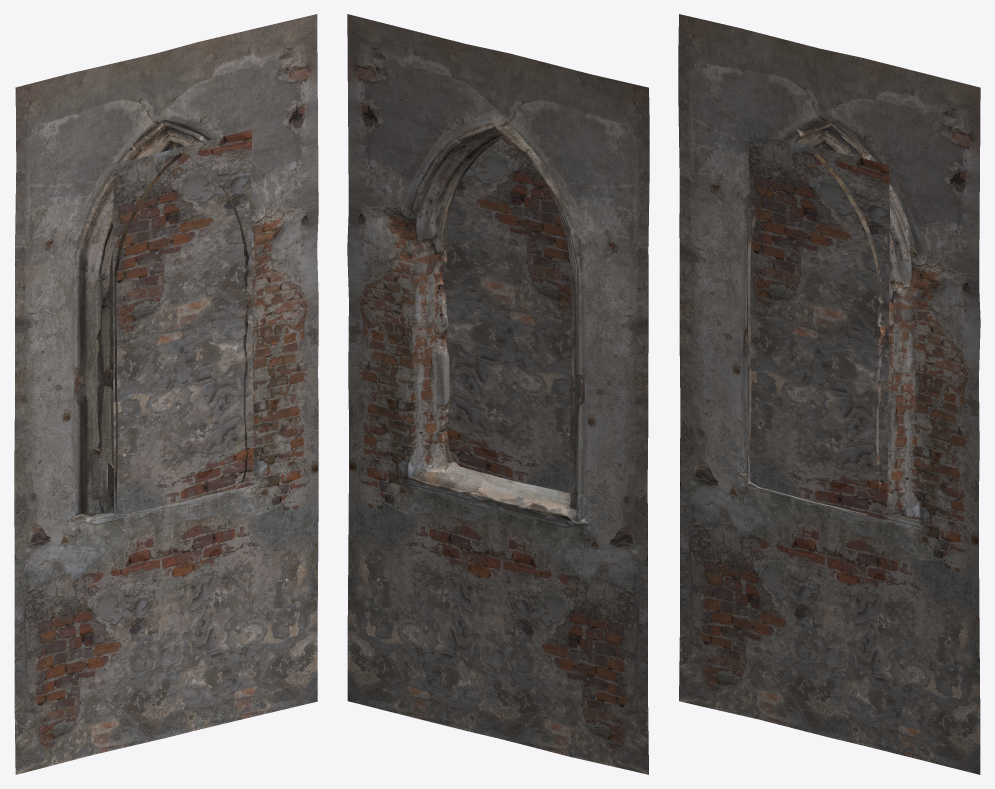
The model's file is SM_ChapelWall_01_06_OneSide.fbx.
The picture shows the model from 3 angles, left to right: view 1: azimuth 30°, elevation 25°; view 2: azimuth 150°, elevation 25°; view 3: azimuth 330°, elevation 25°; orthographic projection.
Parts seen in each view (by area): view 1: sm_ChapelWall_01_06_OneSide_LOD0; view 2: sm_ChapelWall_01_06_OneSide_LOD0; view 3: sm_ChapelWall_01_06_OneSide_LOD0.
Part boxes in pixels (x1,y1,x2,y2): sm_ChapelWall_01_06_OneSide_LOD0: (14,14,318,774); sm_ChapelWall_01_06_OneSide_LOD0: (347,14,649,774); sm_ChapelWall_01_06_OneSide_LOD0: (678,14,980,774).
Bounding box in the file's own units: 31.31 × 250 × 544.
